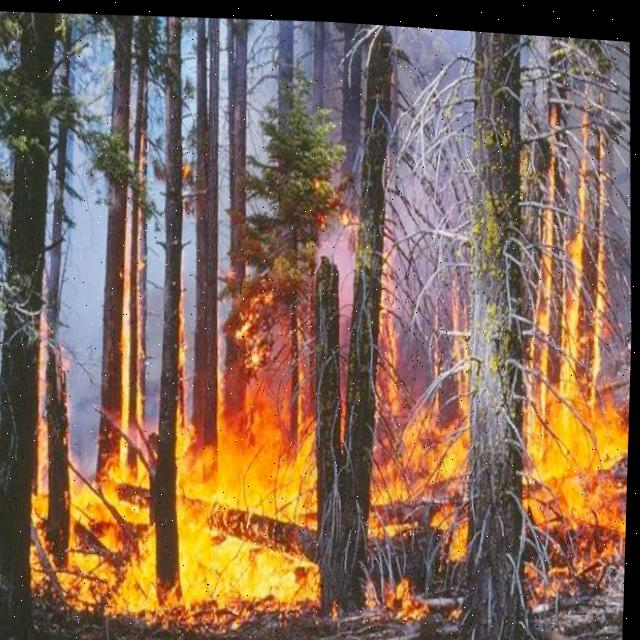fire: (68, 438, 329, 614), (536, 384, 629, 563), (374, 403, 465, 535), (220, 373, 316, 440)
smoke: (64, 165, 108, 440)
